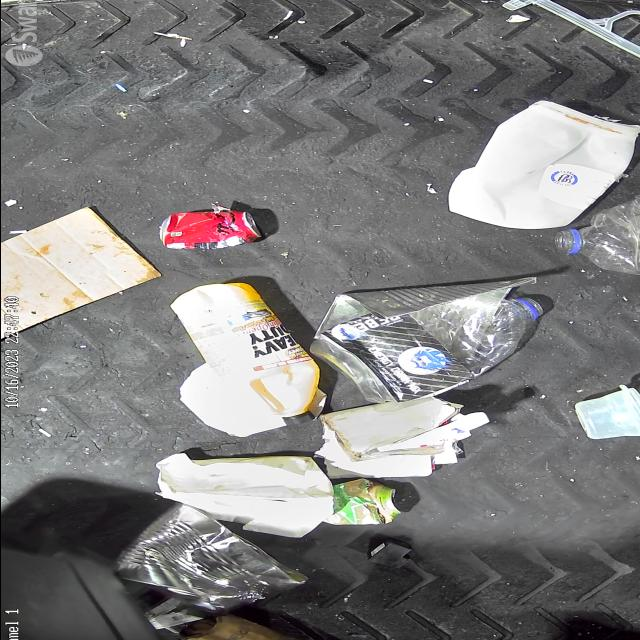can: (112, 500, 305, 614), (158, 210, 260, 250), (328, 478, 402, 526)
milk_jug: (449, 100, 640, 230)
non_white_jug: (168, 282, 320, 424)
plastic_bottle: (307, 296, 543, 404), (553, 198, 640, 277)
